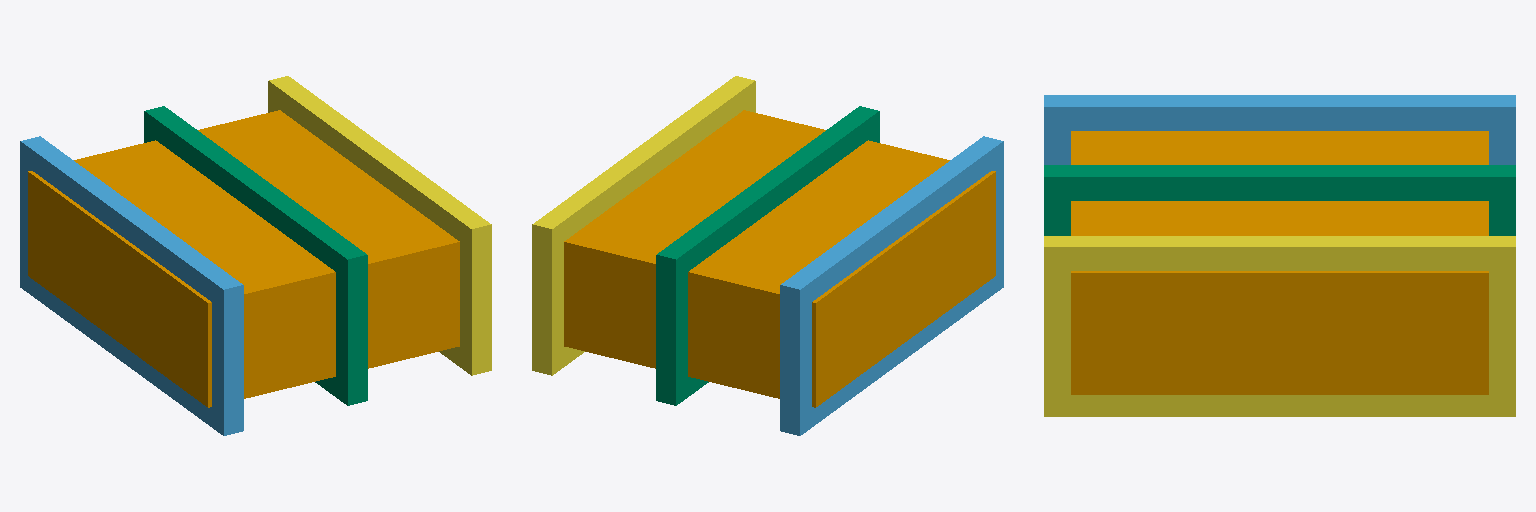
The robot description file, URDF, robot "debris015":
<?xml version="1.0" ?>
<robot name="debris015">

<link name="debris015">
<visual> <origin xyz="0 0 0" rpy="0 0 0" />
<geometry> <box size="0.69 0.78 0.25"/> </geometry>
</visual>
<collision> <origin xyz="0 0 0" rpy="0 0 0" />
<geometry> <box size="0.69 0.78 0.25"/> </geometry>
</collision>
<inertial> <origin xyz="0 0 0" rpy="0 0 0" />
<mass value="10.0" />
<inertia ixx="0.5472" ixy="0" ixz="0" iyy="0.5472" iyz="0" izz="0.5472" />
</inertial>
</link>
<gazebo reference="debris015"> <material>Gazebo/WoodPallet</material> </gazebo>

<link name="debris0150">
<visual> <origin xyz="-0.31 0 0" rpy="0 0 0" />
<geometry> <box size="0.05 0.88 0.35"/> </geometry>
</visual>
<collision> <origin xyz="-0.31 0 0" rpy="0 0 0" />
<geometry> <box size="0.05 0.88 0.35"/> </geometry>
</collision>
<inertial> <origin xyz="0 0 0" rpy="0 0 0" />
<mass value="0.1" />
<inertia ixx="0.0100" ixy="0" ixz="0" iyy="0.0100" iyz="0" izz="0.0100" />
</inertial>
</link>
<gazebo reference="debris0150"> <material>Gazebo/WoodPallet</material> </gazebo>

<joint name="debris0150joint" type="fixed">
<parent link="debris015"/>
<child link="debris0150"/>
<origin xyz="0 0 0" rpy="0 0 0" />
</joint>

<link name="debris0151">
<visual> <origin xyz="0.00 0 0" rpy="0 0 0" />
<geometry> <box size="0.05 0.88 0.35"/> </geometry>
</visual>
<collision> <origin xyz="0.00 0 0" rpy="0 0 0" />
<geometry> <box size="0.05 0.88 0.35"/> </geometry>
</collision>
<inertial> <origin xyz="0 0 0" rpy="0 0 0" />
<mass value="0.1" />
<inertia ixx="0.0100" ixy="0" ixz="0" iyy="0.0100" iyz="0" izz="0.0100" />
</inertial>
</link>
<gazebo reference="debris0151"> <material>Gazebo/WoodPallet</material> </gazebo>

<joint name="debris0151joint" type="fixed">
<parent link="debris015"/>
<child link="debris0151"/>
<origin xyz="0 0 0" rpy="0 0 0" />
</joint>

<link name="debris0152">
<visual> <origin xyz="0.31 0 0" rpy="0 0 0" />
<geometry> <box size="0.05 0.88 0.35"/> </geometry>
</visual>
<collision> <origin xyz="0.31 0 0" rpy="0 0 0" />
<geometry> <box size="0.05 0.88 0.35"/> </geometry>
</collision>
<inertial> <origin xyz="0 0 0" rpy="0 0 0" />
<mass value="0.1" />
<inertia ixx="0.0100" ixy="0" ixz="0" iyy="0.0100" iyz="0" izz="0.0100" />
</inertial>
</link>
<gazebo reference="debris0152"> <material>Gazebo/WoodPallet</material> </gazebo>

<joint name="debris0152joint" type="fixed">
<parent link="debris015"/>
<child link="debris0152"/>
<origin xyz="0 0 0" rpy="0 0 0" />
</joint>

</robot>

--- What the picture shows (computed from the rendered views, not written in the file) ---
3 views of the same robot in one strip: view 1: azimuth 30°, elevation 25°; view 2: azimuth 150°, elevation 25°; view 3: azimuth 270°, elevation 25° (orthographic).
Robot: debris015 — 4 links, 3 joints (3 fixed); root link debris015; default pose: all joints at 0.
Visible links, largest first — view 1: debris015, debris0150, debris0152, debris0151; view 2: debris015, debris0150, debris0152, debris0151; view 3: debris015, debris0152, debris0151, debris0150.
Link boxes in pixels (x1,y1,x2,y2): debris015: (28, 110, 459, 407); debris0150: (20, 136, 243, 435); debris0152: (268, 76, 491, 375); debris0151: (144, 106, 367, 405); debris015: (564, 110, 995, 407); debris0150: (780, 136, 1003, 435); debris0152: (532, 76, 755, 375); debris0151: (656, 106, 879, 405); debris015: (1071, 131, 1488, 394); debris0152: (1044, 236, 1515, 416); debris0151: (1044, 165, 1515, 235); debris0150: (1044, 95, 1515, 164).
Size in the robot's own frame: 0.69 by 0.88 by 0.35 metres.
Geometry: primitives only (box / cylinder / sphere), no mesh files.
